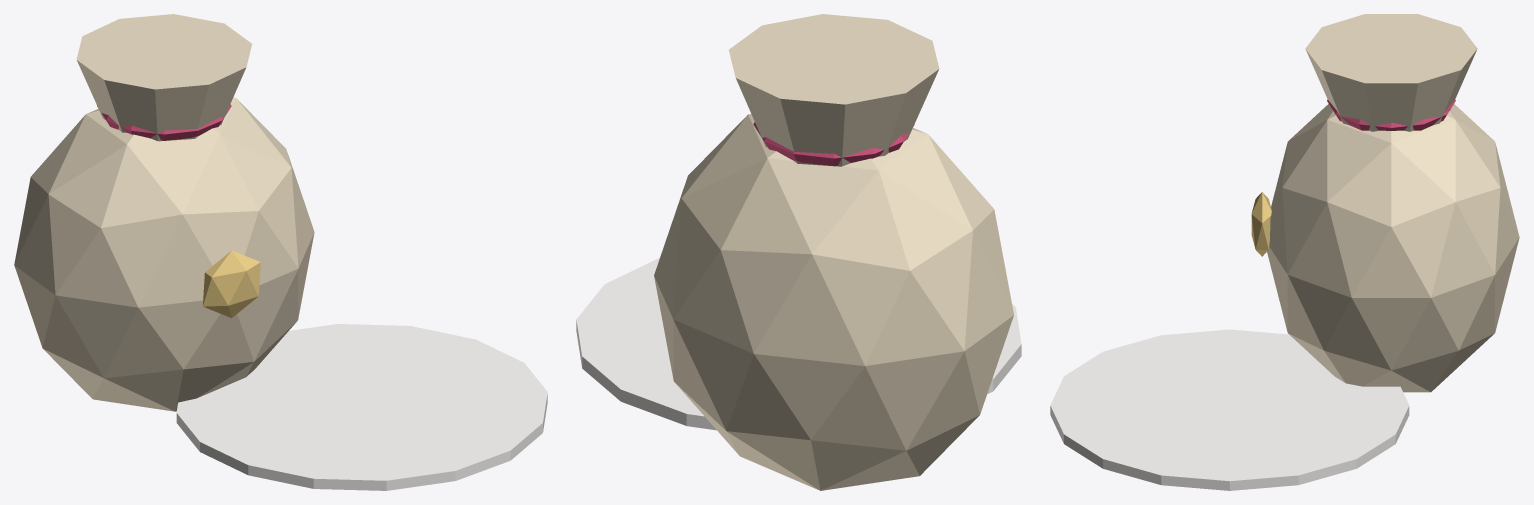
File: HOB_Sack.fbx
3 views of the same model, side by side, from view 1: azimuth 30°, elevation 25°; view 2: azimuth 150°, elevation 25°; view 3: azimuth 270°, elevation 25° (orthographic). The views are drawn at different scales.
Visible parts, largest first — view 1: HOB_Sack; view 2: HOB_Sack; view 3: HOB_Sack.
Boxes of the visible parts, x1,y1,x2,y2 form: HOB_Sack: [14, 14, 547, 490]; HOB_Sack: [576, 14, 1021, 490]; HOB_Sack: [1050, 14, 1519, 490].
Size of the model in its own units: 125 by 104 by 131.
